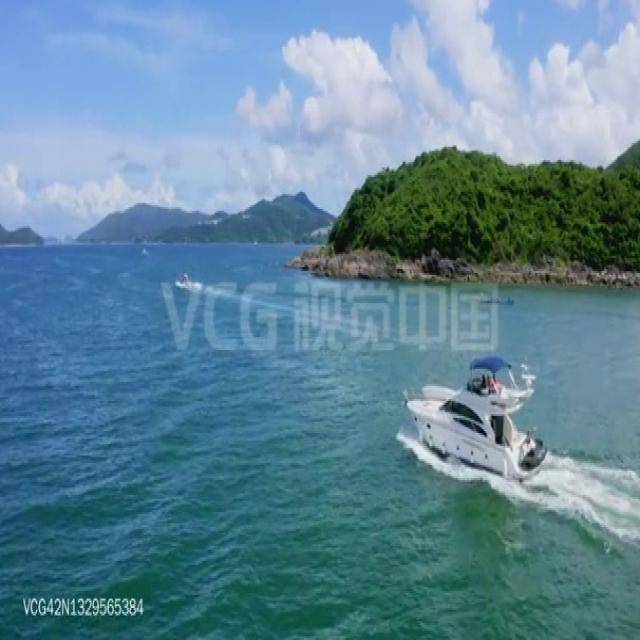houseboat: (402, 363, 548, 479), (175, 267, 198, 295)
